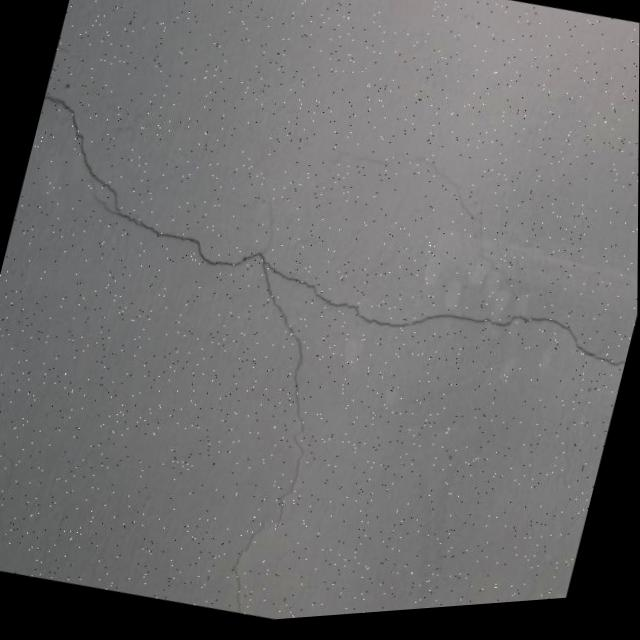Crack: (0, 51, 639, 640)
